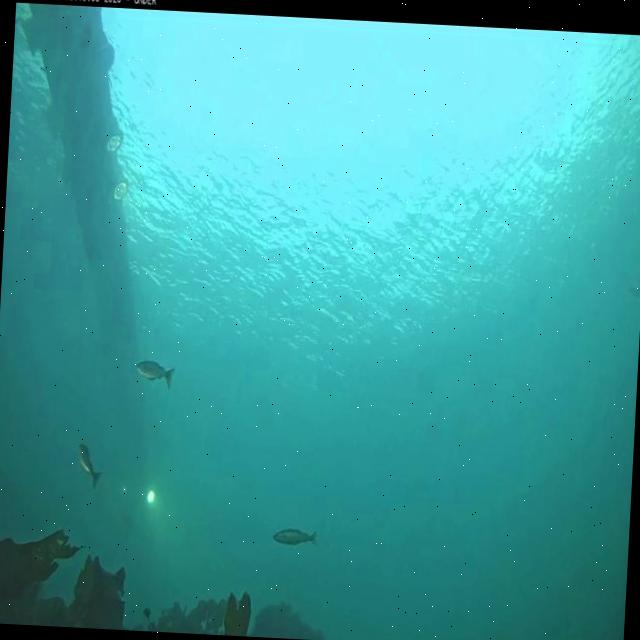fish: (75, 442, 104, 488), (136, 360, 176, 392), (272, 527, 318, 548)
